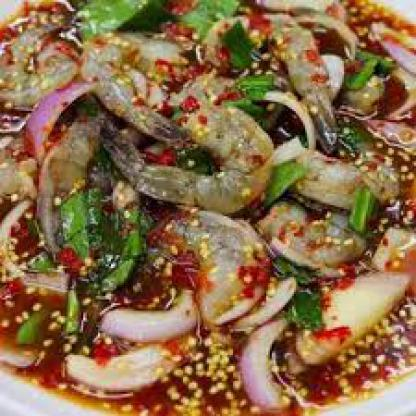Yum: (0, 9, 414, 414)
